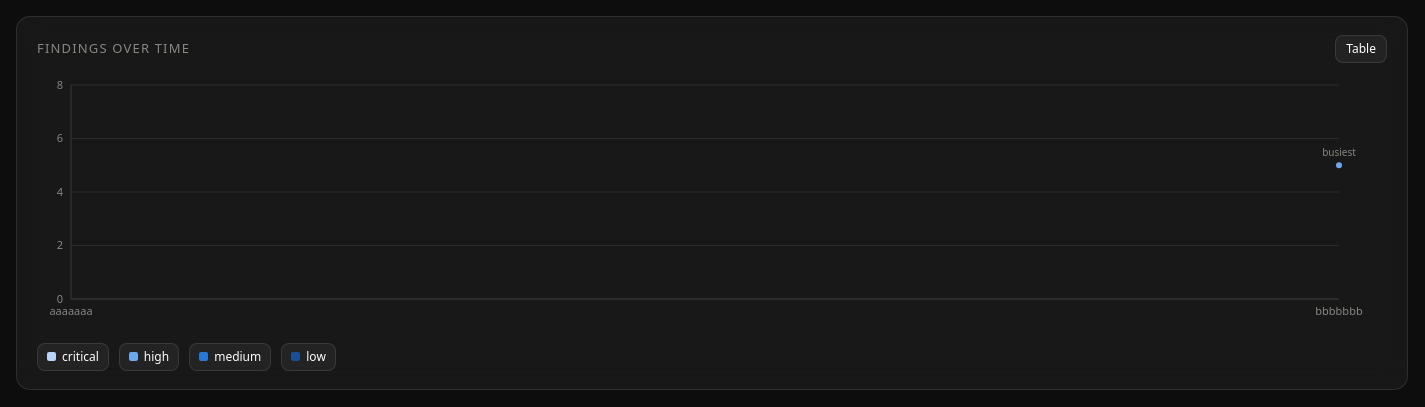
it: the table view exposes every value the chart encodes
Click the button "Table".
click(1361, 49)  # box [1335,35,1387,63]
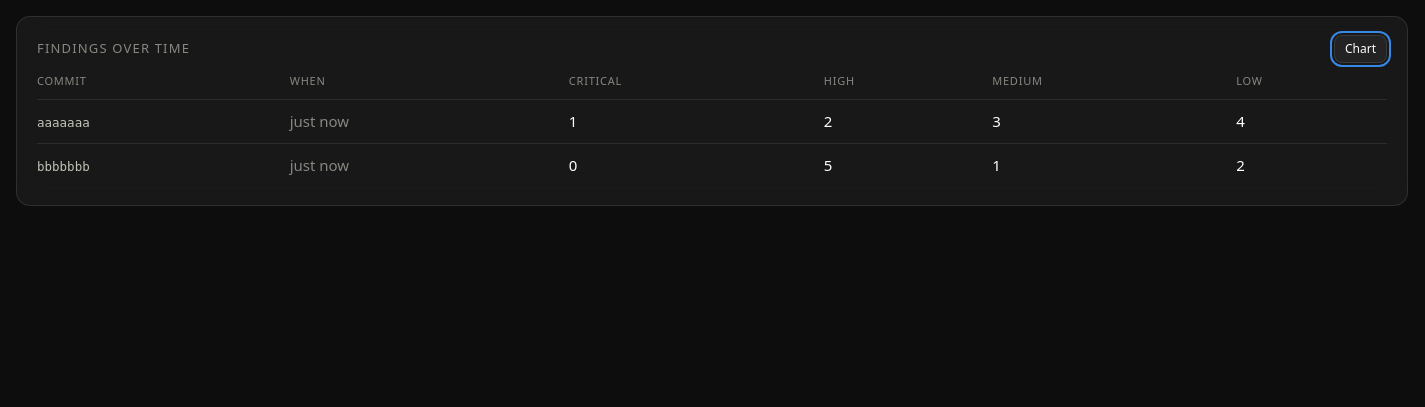
Check: the number of rows is 3, box [37,72,1387,100]; [37,100,1387,143]; [37,143,1387,186]
Check: the column headings read "Commit", "When", "critical", "high", "medium", "low", in this order, box [37,72,290,100]; [290,72,569,100]; [569,72,824,100]; [824,72,992,100]; [992,72,1236,100]; [1236,72,1387,100]
